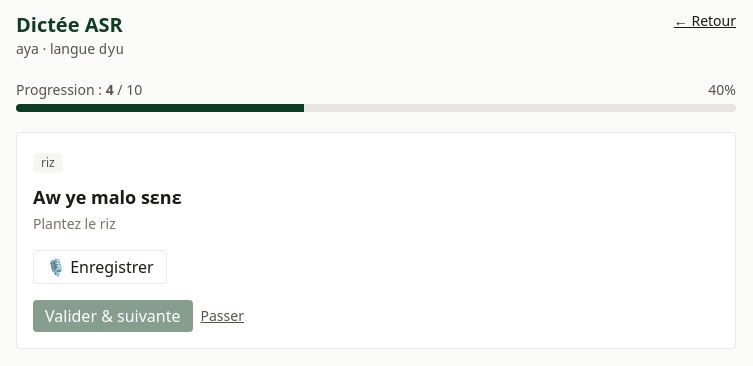
Test: DictationView — arret de l'enregistrement › relache le micro et propose l'extrait a la relecture
Click the button "🎙️ Enregistrer" at point(100, 267), box [33,250,167,284]
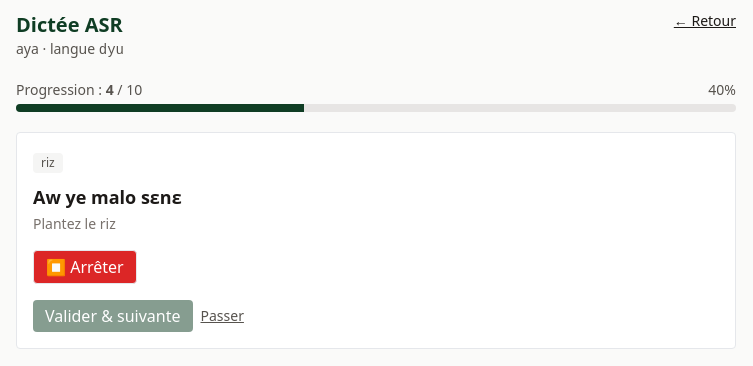
Click the button "⏹️ Arrêter" at point(85, 267), box [33,250,137,284]
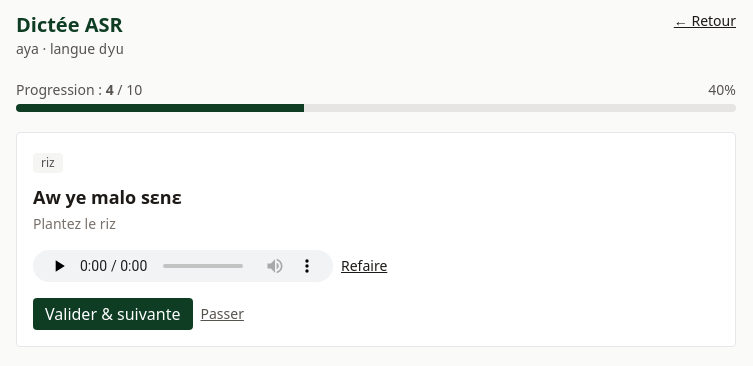
Now the button "Valider & suivante" is enabled, box [33,298,192,330]
